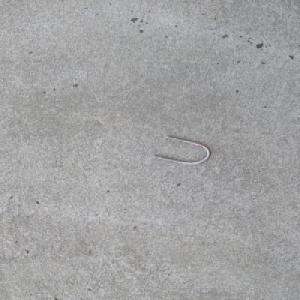ClampPart: (151, 135, 211, 165)
